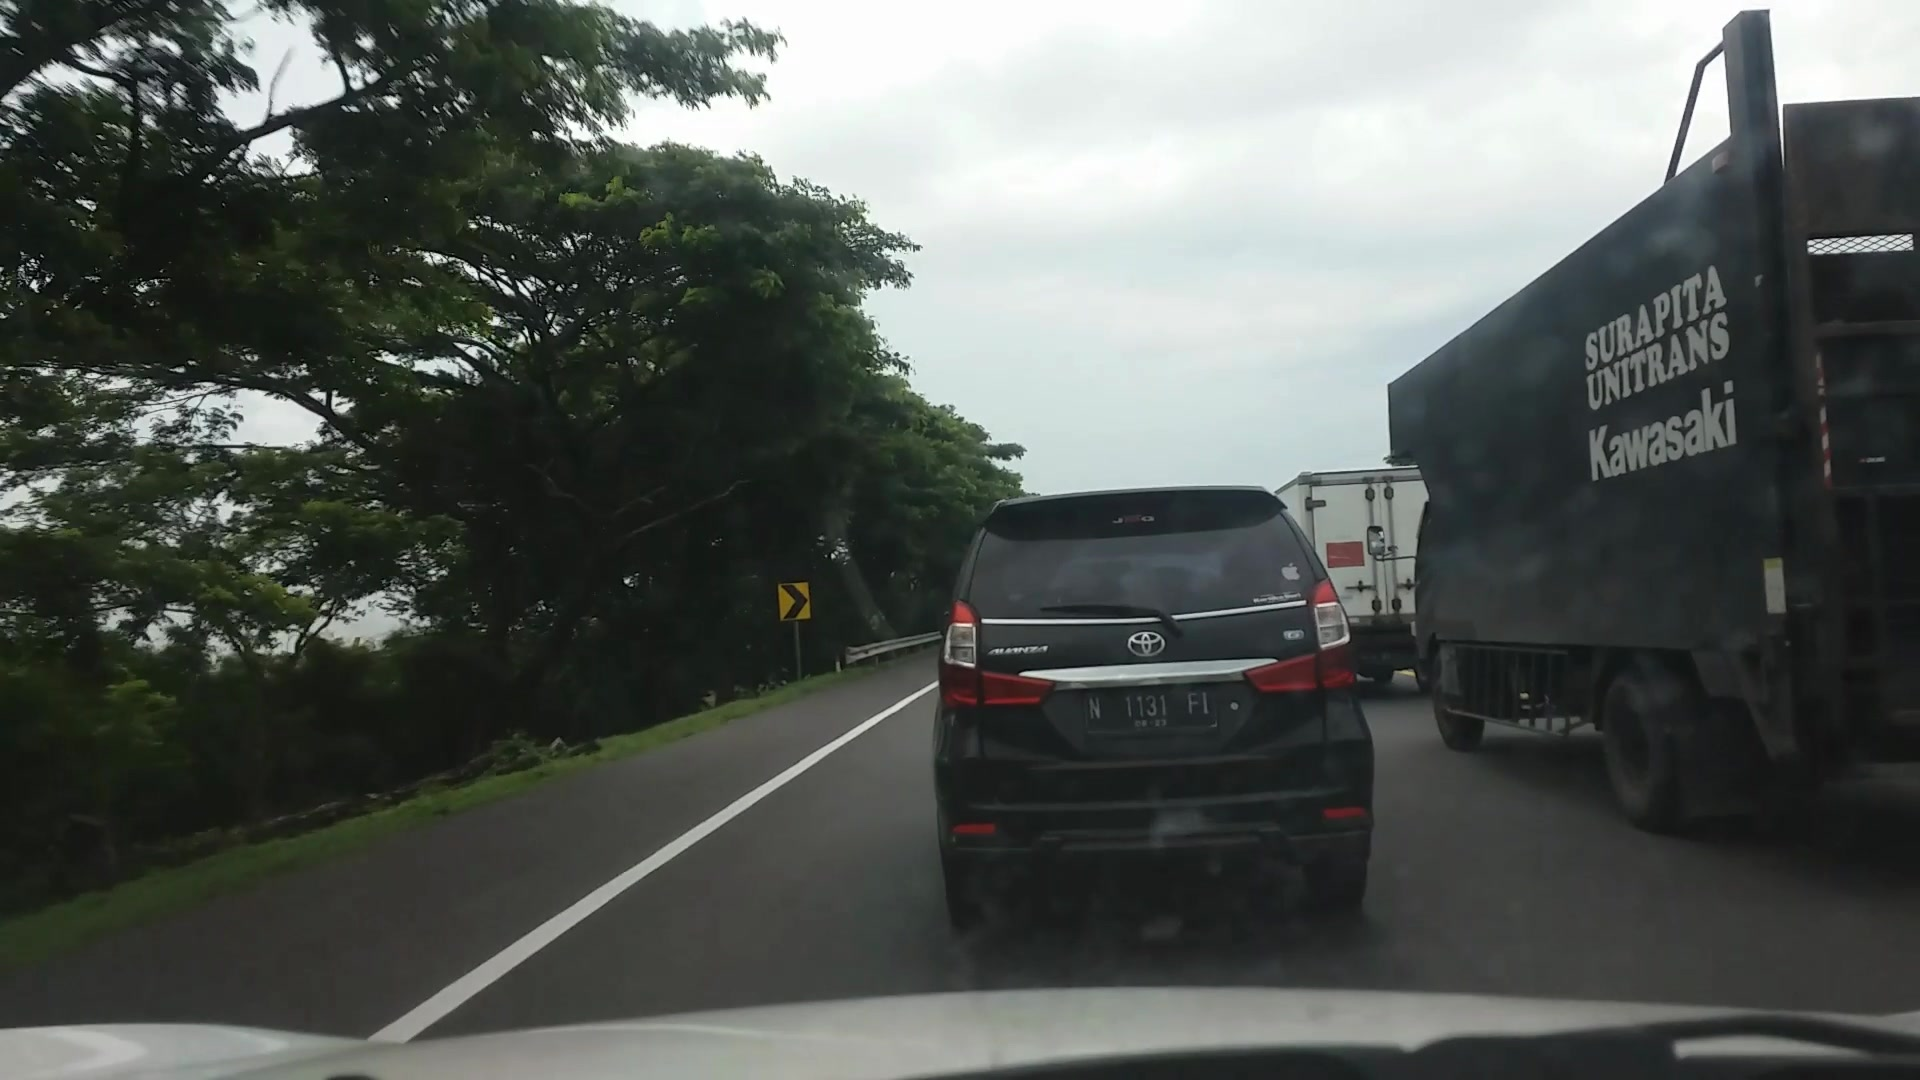plate_positive: (1084, 688, 1216, 731)
